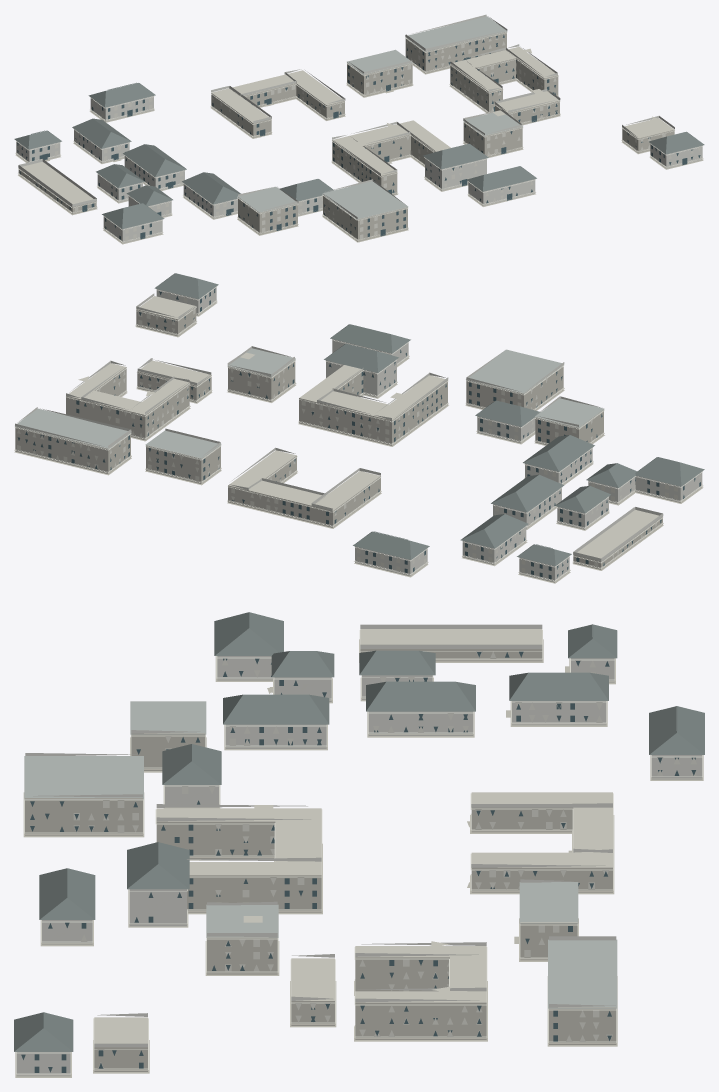
Rendered from shared-01-medium.glb.
The picture shows the model from 3 angles, top to bottom: view 1: azimuth 30°, elevation 25°; view 2: azimuth 150°, elevation 25°; view 3: azimuth 270°, elevation 25°; orthographic projection. The views are drawn at different scales.
Visible parts, largest first — view 1: Window frames and coping details.004, Weathered flat roof details.004, Pale limestone details.004, Walkway stone details.004, Dark blue grey glazing details.004, 兴业光学楼.001, 外事处 · 西翼.001, 力学实验室.001, 射击场.001, 子彬院 · 西翼.001, 第一教学楼 · 西翼.001, 子彬院 · 东翼.001 (+33 smaller); view 2: Window frames and coping details.004, Weathered flat roof details.004, Pale limestone details.004, Walkway stone details.004, Dark blue grey glazing details.004, 兴业光学楼.001, 外事处 · 西翼.001, 射击场.001, 外事处 · 横楼.001, 子彬院 · 西翼.001, 第一教学楼 · 西翼.001, 力学实验室.001 (+34 smaller); view 3: Weathered flat roof details.004, Window frames and coping details.004, Pale limestone details.004, Walkway stone details.004, 第一教学楼 · 东翼.001, 外事处 · 东翼.001, 外事处 · 西翼.001, 子彬院 · 东翼.001, 射击场.001, 第一教学楼 · 西翼.001, 子彬院 · 西翼.001, 力学实验室.001 (+33 smaller).
Boxes of the visible parts, x1,y1,x2,y2 form: Window frames and coping details.004: (16, 32, 702, 242); Weathered flat roof details.004: (237, 16, 522, 219); Pale limestone details.004: (18, 14, 674, 219); Walkway stone details.004: (15, 63, 703, 244); Dark blue grey glazing details.004: (17, 34, 700, 239); 兴业光学楼.001: (405, 31, 506, 73); 外事处 · 西翼.001: (332, 136, 397, 194); 力学实验室.001: (323, 194, 407, 241); 射击场.001: (18, 161, 96, 214); 子彬院 · 西翼.001: (211, 88, 271, 137); 第一教学楼 · 西翼.001: (450, 60, 502, 113); 子彬院 · 东翼.001: (285, 70, 344, 119); Window frames and coping details.004: (14, 286, 702, 581); Weathered flat roof details.004: (15, 348, 604, 459); Pale limestone details.004: (15, 293, 663, 561); Walkway stone details.004: (14, 301, 703, 583); Dark blue grey glazing details.004: (17, 288, 700, 579); 兴业光学楼.001: (15, 426, 130, 473); 外事处 · 西翼.001: (374, 375, 447, 445); 射击场.001: (573, 510, 662, 569); 外事处 · 横楼.001: (317, 391, 388, 441); 子彬院 · 西翼.001: (312, 471, 380, 527); 第一教学楼 · 西翼.001: (130, 378, 189, 440); 力学实验室.001: (466, 365, 563, 410); Weathered flat roof details.004: (24, 701, 617, 1008); Window frames and coping details.004: (16, 630, 702, 1074); Pale limestone details.004: (25, 624, 616, 1047); Walkway stone details.004: (15, 639, 703, 1077); 第一教学楼 · 东翼.001: (355, 991, 486, 1039); 外事处 · 东翼.001: (187, 862, 321, 912); 外事处 · 西翼.001: (156, 808, 321, 858); 子彬院 · 东翼.001: (471, 852, 612, 892); 射击场.001: (360, 629, 542, 661); 第一教学楼 · 西翼.001: (355, 946, 486, 991); 子彬院 · 西翼.001: (471, 792, 612, 832); 力学实验室.001: (25, 798, 142, 835).
Size of the model in its own units: 245 by 14.56 by 164.
